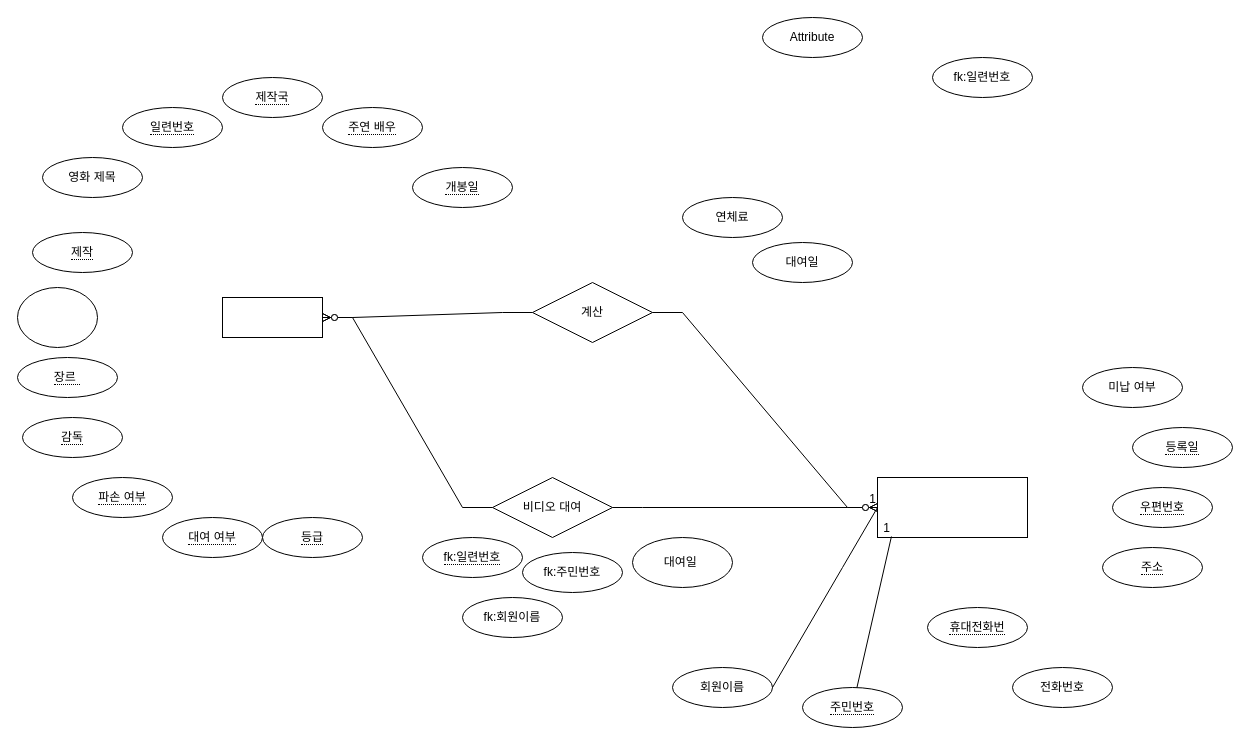
Some shapes in this 1250 by 745 pixel diagram are drawn without their labels. Here are the shapes that lost their labels. From the top down, the box of each, then its label:
(16, 286, 98, 348): 비디오 출시일
(222, 296, 322, 338): 비디오 테이프
(876, 476, 1028, 538): 회원정보
